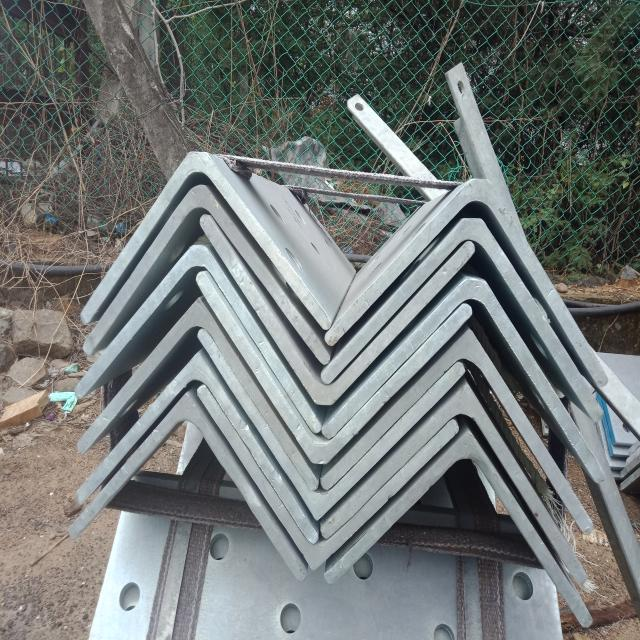metal-angles: (325, 178, 608, 386), (322, 278, 605, 484), (321, 218, 604, 423), (320, 328, 594, 535), (195, 271, 472, 465), (321, 384, 587, 585), (324, 431, 594, 627), (200, 214, 475, 406), (197, 328, 465, 522), (197, 386, 459, 572), (78, 296, 319, 492), (74, 245, 323, 434), (75, 352, 319, 544), (81, 150, 331, 330), (68, 393, 306, 582), (83, 185, 331, 365)
